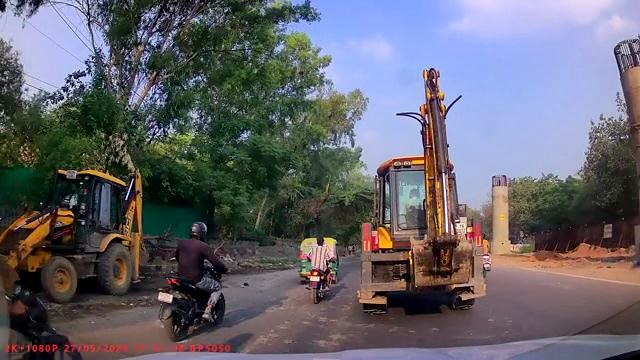motorcycle_with_helmet: (156, 219, 229, 342)
